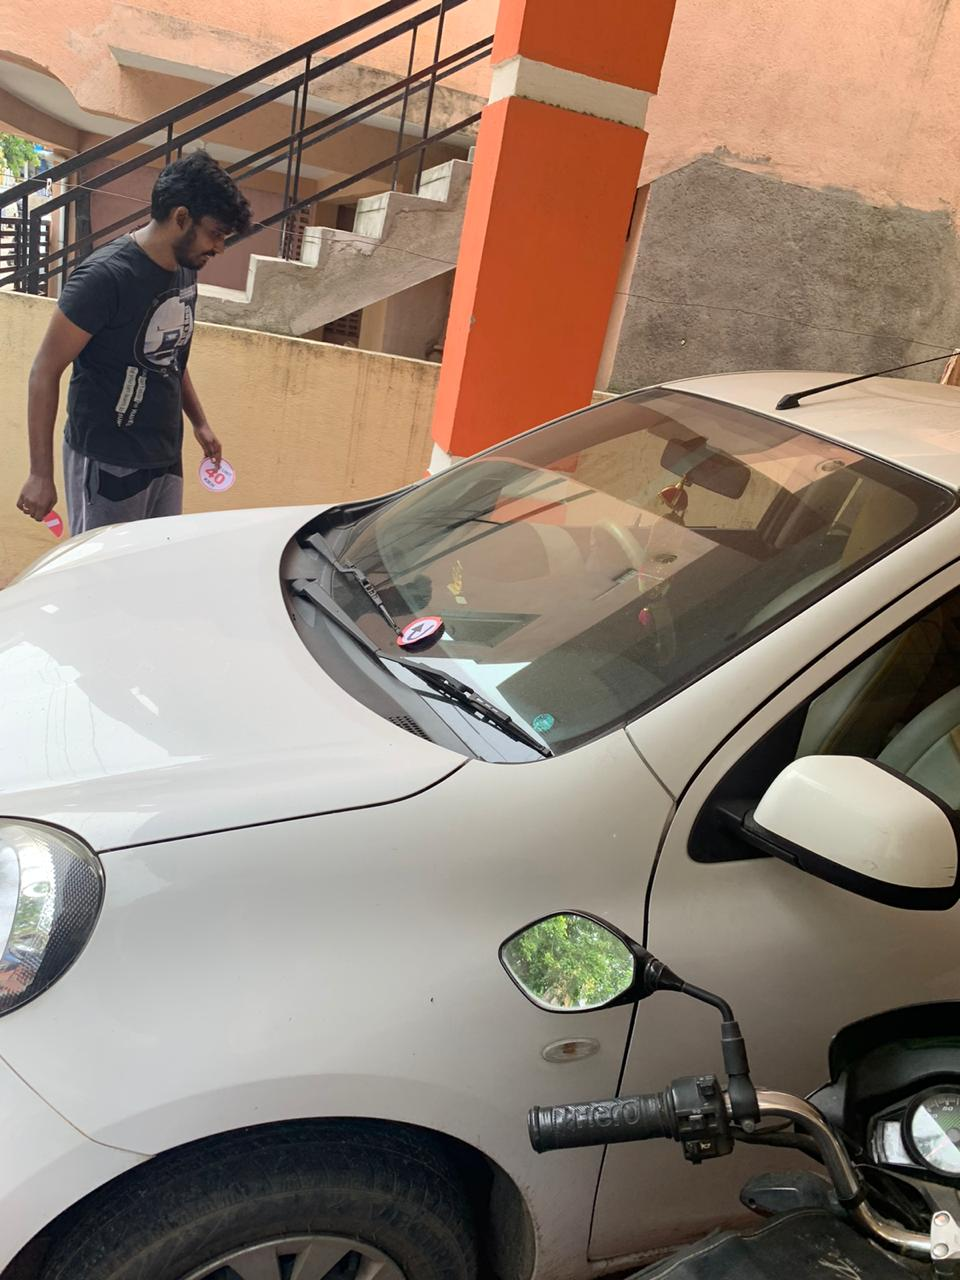NO ENTRY: (17, 498, 90, 549)
SPEED LIMIT(40 KM/H): (179, 440, 267, 498)
U-TURN: (353, 587, 472, 661)
